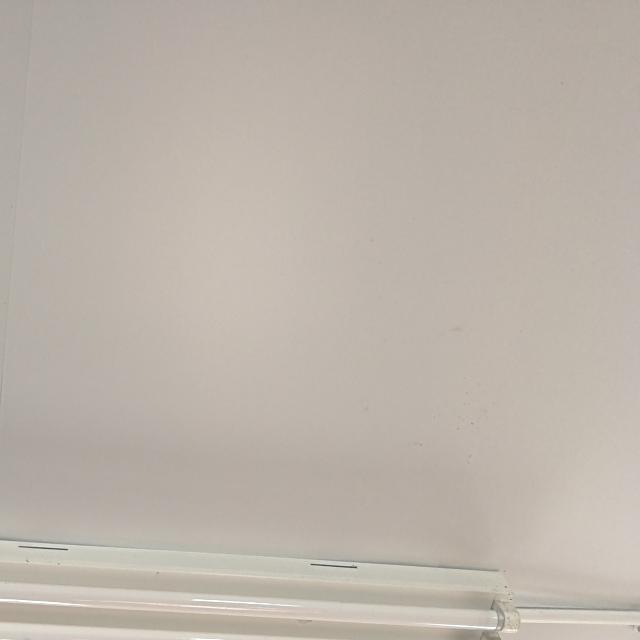fluorescent tube: (0, 479, 534, 640)
